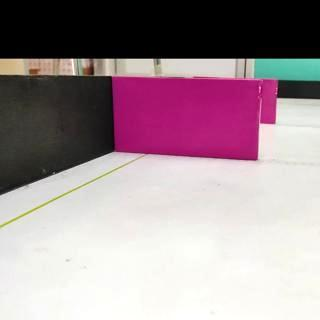xparking: (116, 78, 255, 160)
